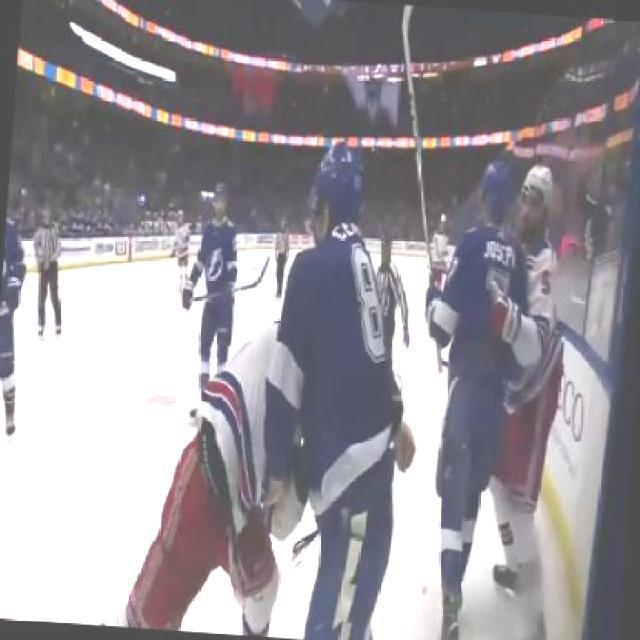fight: (112, 124, 432, 638)
non-fight: (403, 116, 585, 638), (181, 175, 254, 348), (30, 186, 76, 340)
